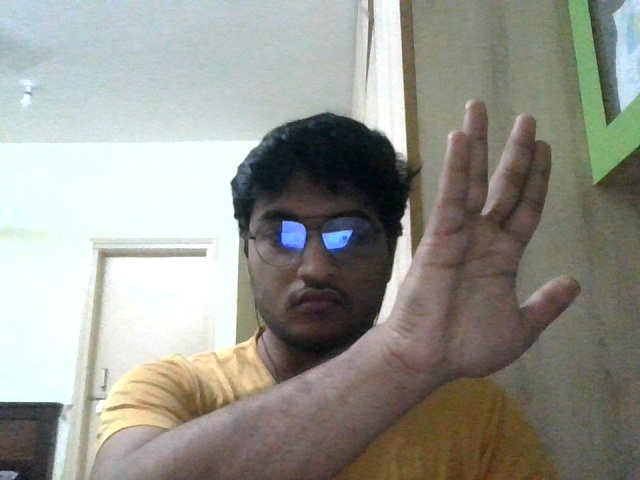livelong: (390, 99, 582, 378)
